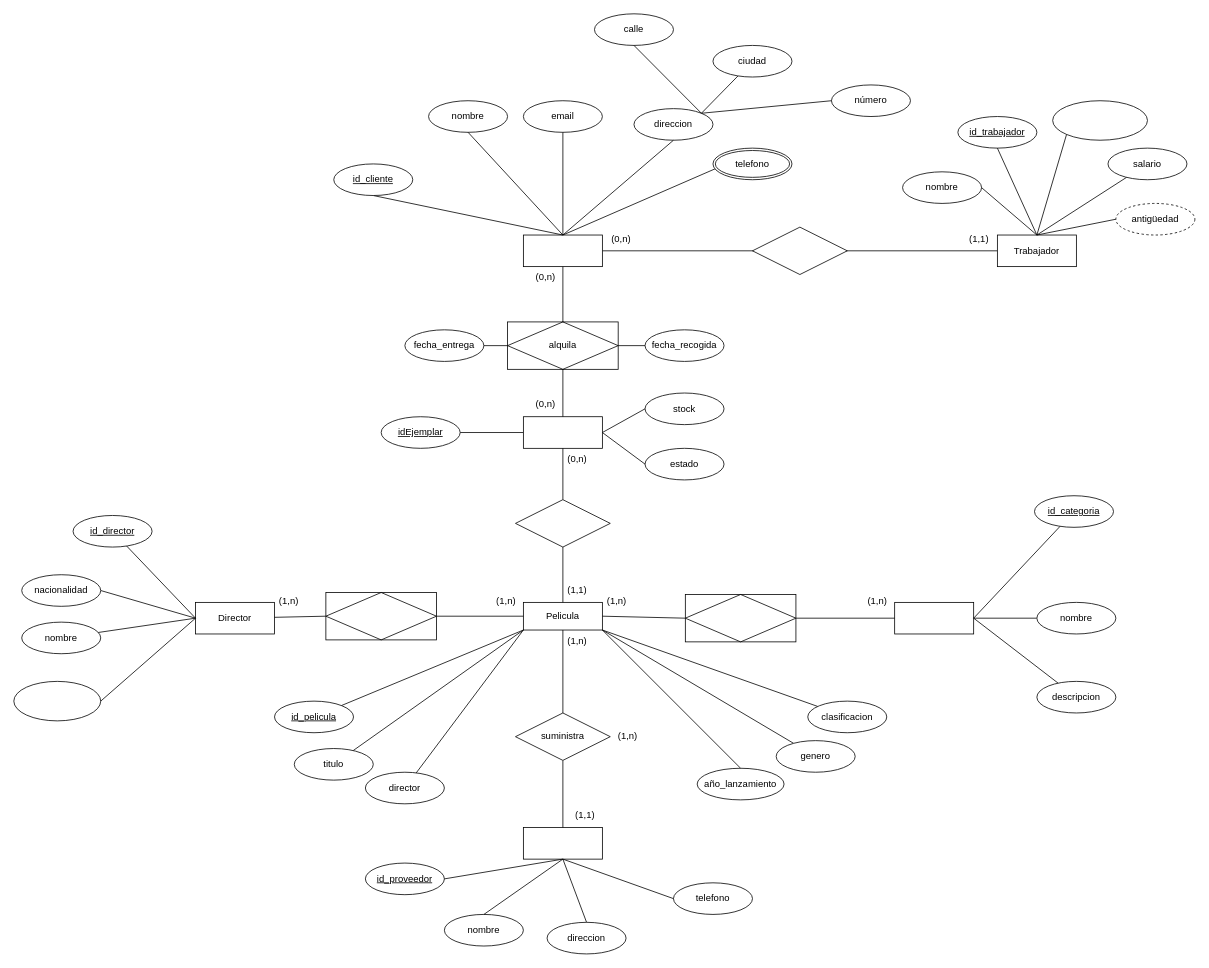
The diagram is 1209 pixels wide and 968 high, and some of its shapes have lost their labels. Each missing label, with the centre of its shape:
"atiende" goes at (x=799, y=250).
"Categoría" goes at (x=934, y=618).
"Cliente" goes at (x=562, y=250).
"dirige" goes at (x=380, y=616).
"ejemplar" goes at (x=562, y=432).
"fecha_contratacion" goes at (x=1099, y=120).
"fecha_nacimiento" goes at (x=57, y=701).
"pertenece" goes at (x=740, y=618).
"Proveedor" goes at (x=562, y=843).
"tiene" goes at (x=562, y=523).
